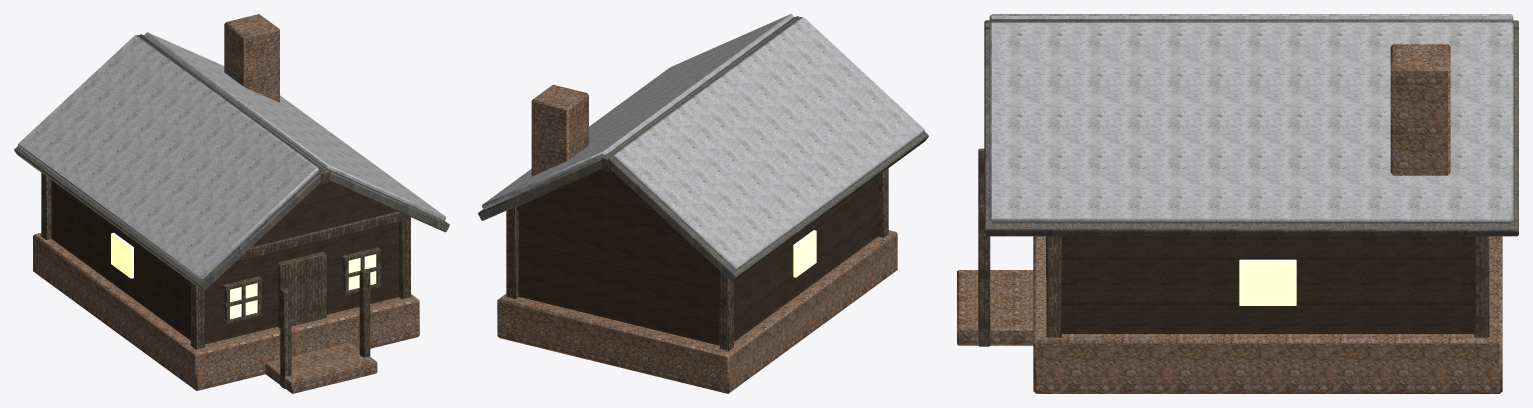
Rendered from env_nordic_cabin.glb.
3 views of the same model, side by side, from view 1: azimuth 30°, elevation 25°; view 2: azimuth 150°, elevation 25°; view 3: azimuth 270°, elevation 25° (orthographic). The views are drawn at different scales.
Visible parts, largest first — view 1: ENV_Frostheim_NordicCabin; view 2: ENV_Frostheim_NordicCabin; view 3: ENV_Frostheim_NordicCabin.
Boxes of the visible parts, left/top/right/bottom form: ENV_Frostheim_NordicCabin: left=14, top=14, right=449, bottom=393; ENV_Frostheim_NordicCabin: left=478, top=14, right=928, bottom=393; ENV_Frostheim_NordicCabin: left=957, top=14, right=1518, bottom=393.
Size of what is drawn, in the model's own units: 7.56 by 6.4 by 10.3.
Materials: 6 (5 with a texture image).
